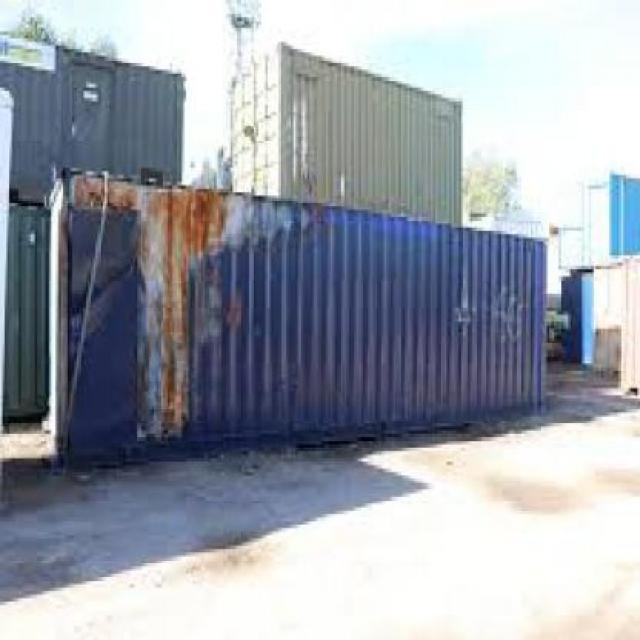Dent: (68, 249, 132, 403)
Rust: (68, 168, 326, 445)
